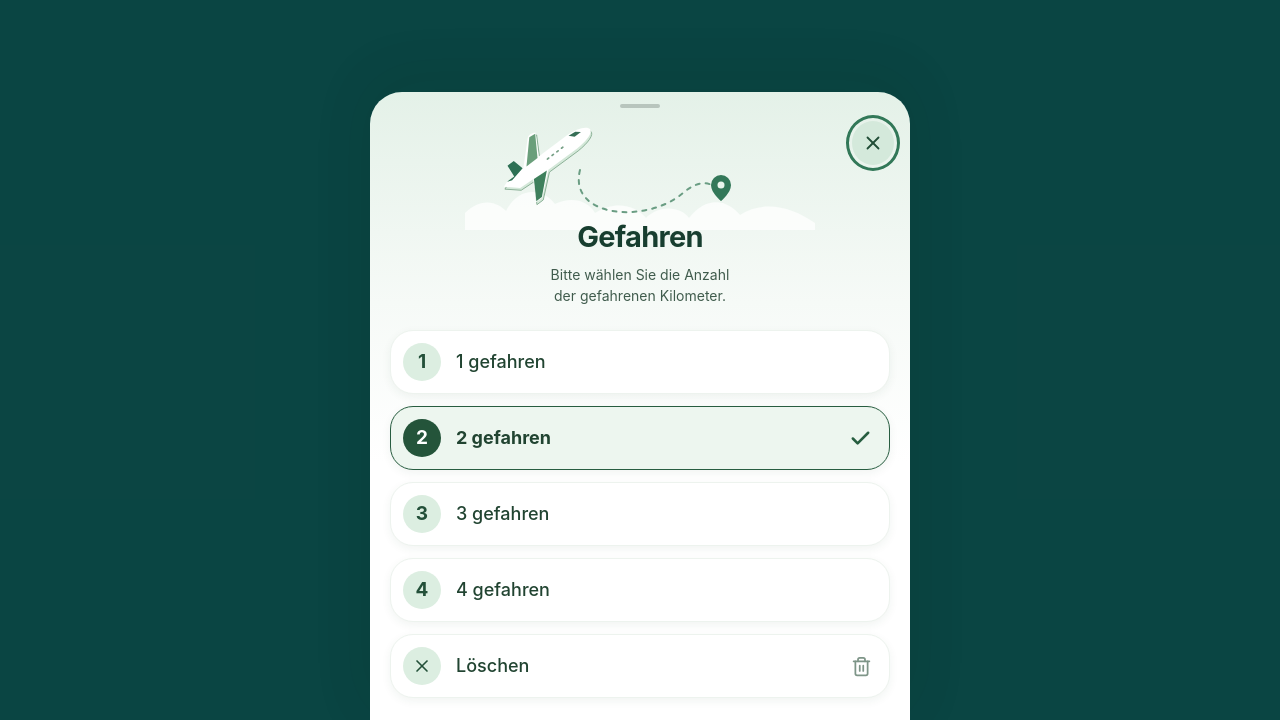
selected option clear and failed save leave visible error
Expected: the button "2 2 gefahren" is shown, [390, 406, 890, 470]
Click the button with class "dps-row" showing "Löschen" at (422, 666), box [390, 634, 890, 698]
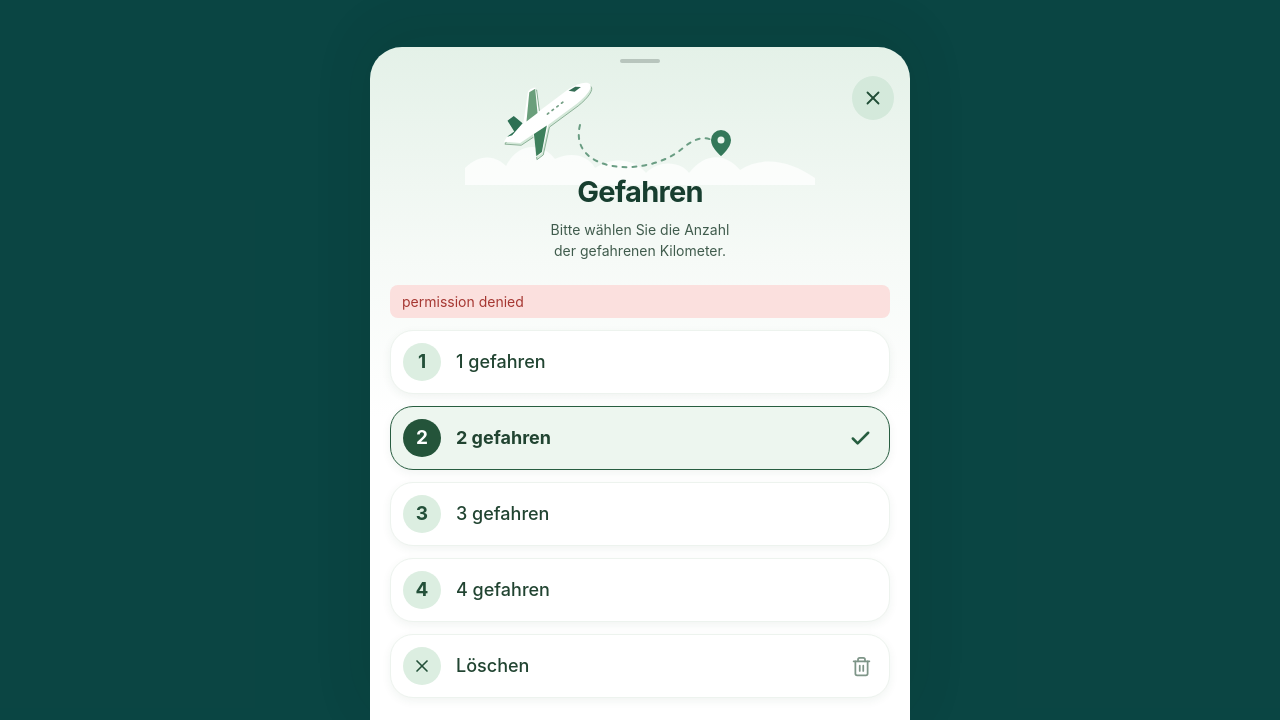
Expected: the message "permission denied" is shown, [390, 285, 890, 318]
